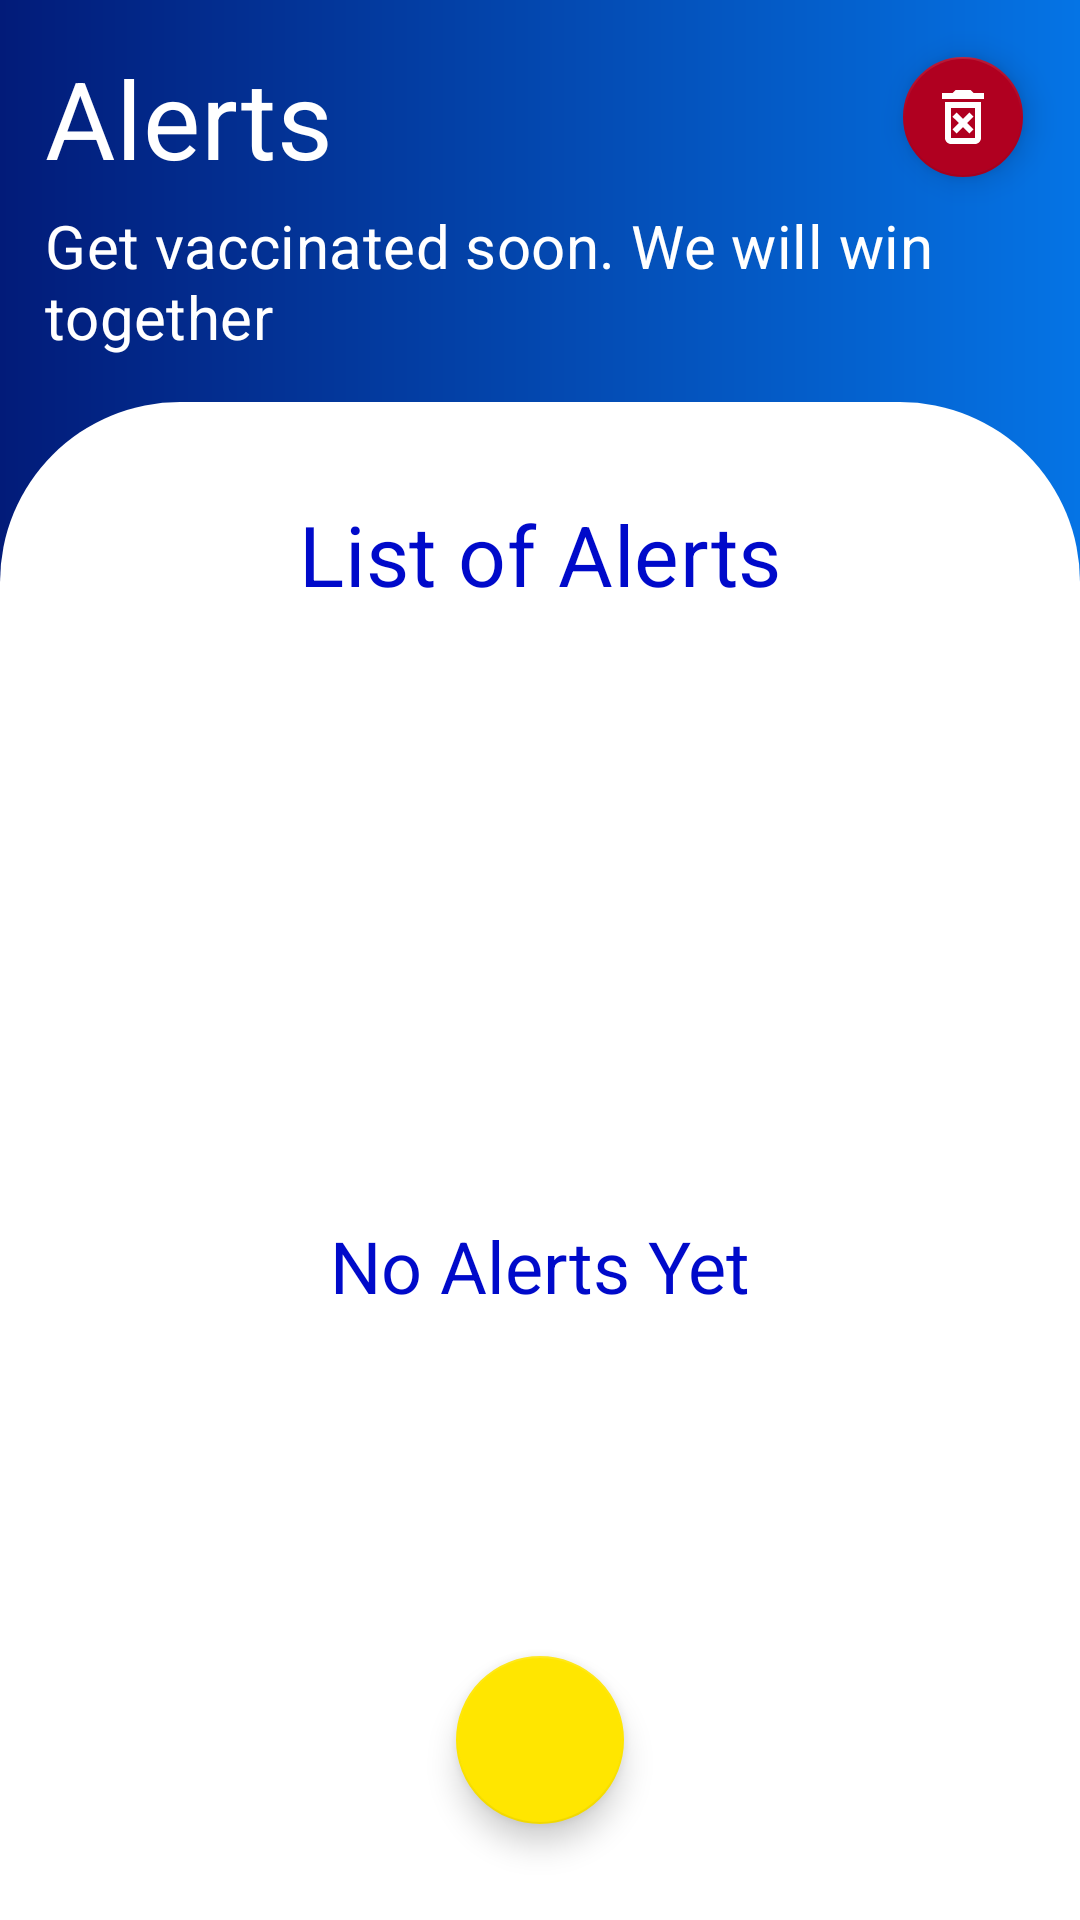

Point at icon controls on the screen. Image size 1080 x 1920, points as point (x, y).
delete forever: point (963, 117)
